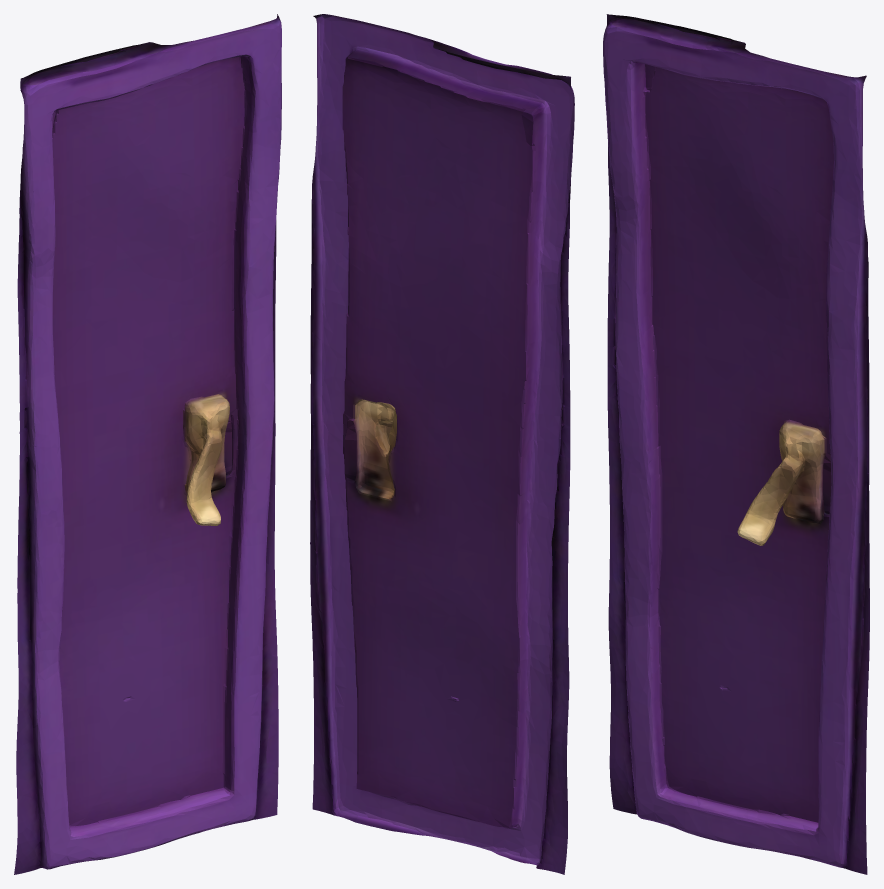
The model's file is door.glb.
3 renders of one model, left to right at view 1: azimuth 30°, elevation 25°; view 2: azimuth 150°, elevation 25°; view 3: azimuth 330°, elevation 25°, orthographic.
Parts seen in each view (by area): view 1: source_surface_0; view 2: source_surface_0; view 3: source_surface_0.
Boxes of the visible parts, x1,y1,x2,y2 form: source_surface_0: [14, 14, 281, 874]; source_surface_0: [310, 14, 574, 874]; source_surface_0: [603, 14, 869, 874].
Size of the model in its own units: 0.1708 by 0.5052 by 0.0379.
1 material, 1 textured.
